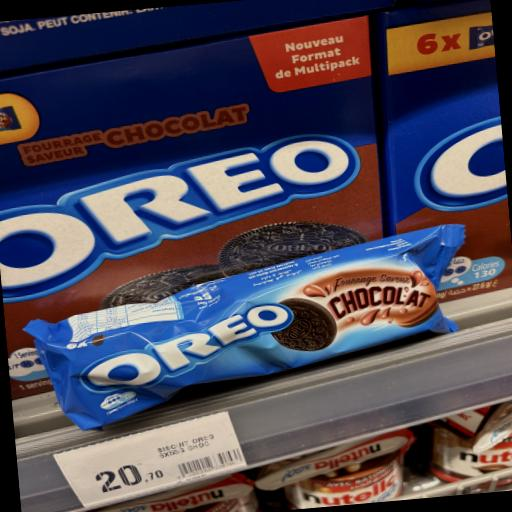oreo: (5, 230, 510, 446)
